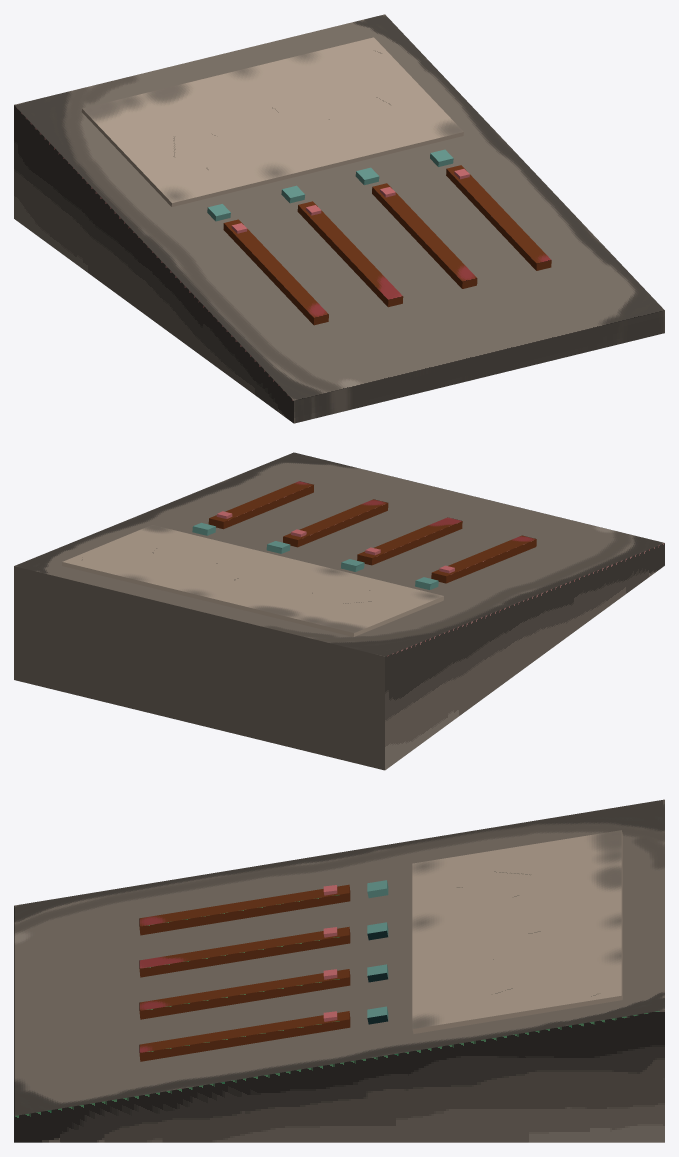
The model's file is Radio.gltf.
3 views of the same model, one above another, from view 1: azimuth 30°, elevation 25°; view 2: azimuth 150°, elevation 25°; view 3: azimuth 270°, elevation 25° (orthographic). The views are drawn at different scales.
Parts seen in each view (by area): view 1: BASE_RAIDIO, TELA_RADIO, base_radio_volume (×4); view 2: BASE_RAIDIO, TELA_RADIO, base_radio_volume (×4); view 3: BASE_RAIDIO, TELA_RADIO, base_radio_volume (×4).
Part boxes in pixels (x1=…): BASE_RAIDIO: x1=14, y1=14, x2=664, y2=423; TELA_RADIO: x1=81, y1=37, x2=463, y2=206; base_radio_volume (×4): x1=223, y1=165, x2=551, y2=325; BASE_RAIDIO: x1=14, y1=452, x2=664, y2=770; TELA_RADIO: x1=62, y1=525, x2=443, y2=636; base_radio_volume (×4): x1=208, y1=481, x2=536, y2=583; BASE_RAIDIO: x1=14, y1=799, x2=664, y2=1142; TELA_RADIO: x1=412, y1=830, x2=622, y2=1033; base_radio_volume (×4): x1=139, y1=884, x2=350, y2=1061.
Size of the model in its own units: 0.1465 by 0.043 by 0.1914.
Materials: 2 (2 with a texture image).
